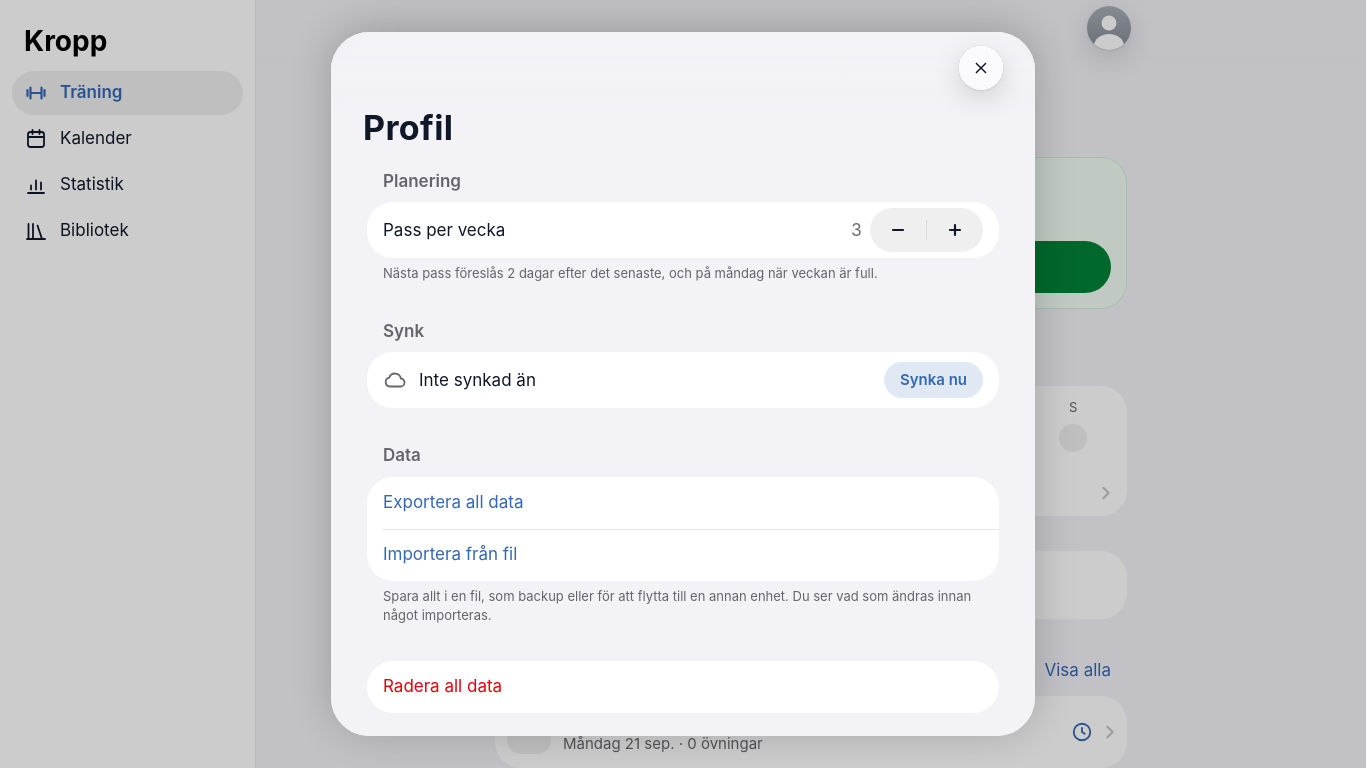
Test: export and import › shows what the export holds before it shares it
The image size is (1366, 768).
Click the button with test id "export-data" at (453, 502), box top-left (367, 477), bottom-right (999, 529)
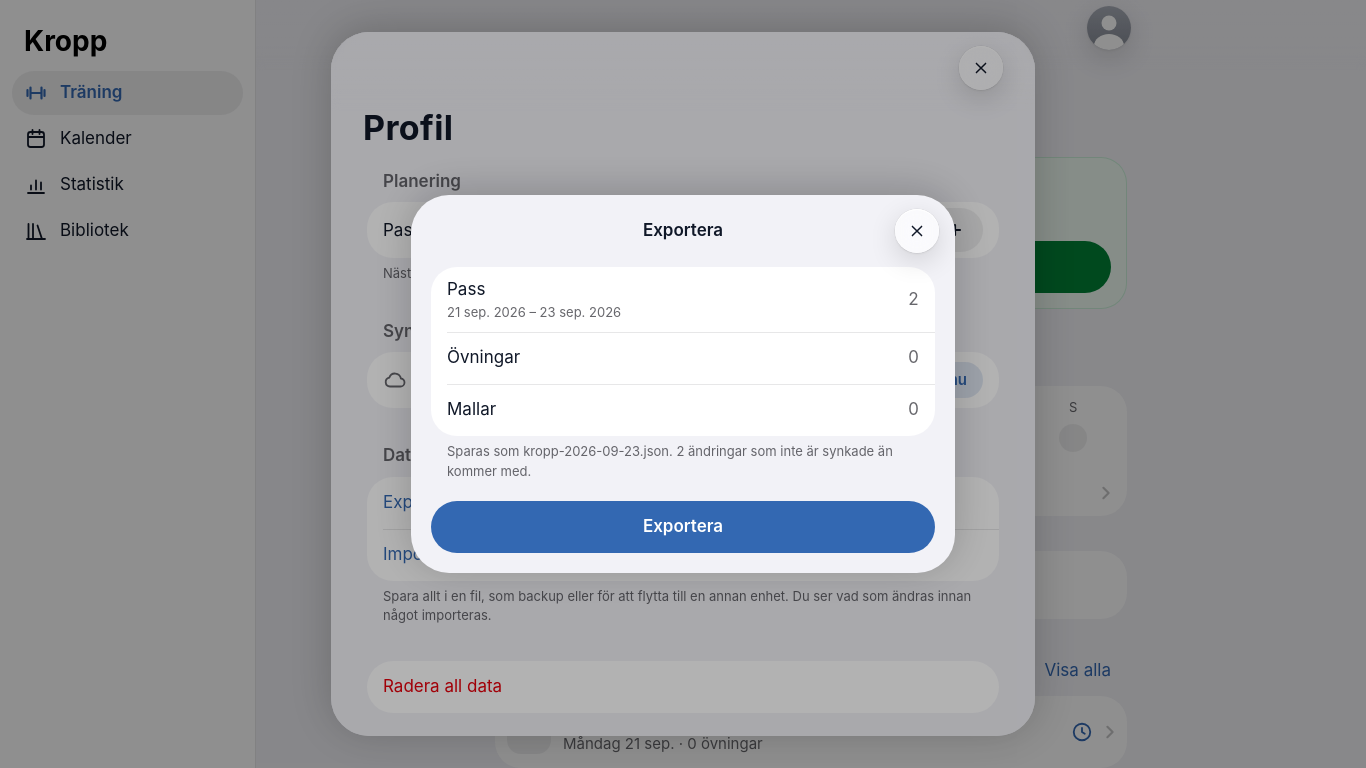
Check: the list with test id "export-summary" reads "Pass 21 sep. 2026 – 23 sep. 2026 2 Övningar 0 Mallar 0", box top-left (431, 267), bottom-right (935, 436)
Check: the dialog with test id "export-sheet" shows "2 ändringar som inte är synkade än kommer med.", box top-left (447, 443), bottom-right (893, 478)
